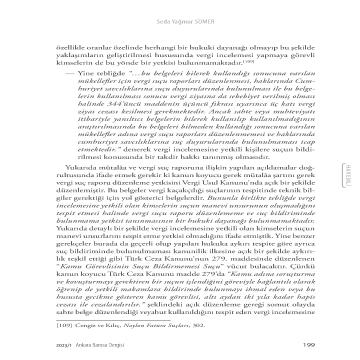footer: (54, 321, 221, 348)
header: (153, 18, 222, 26)
